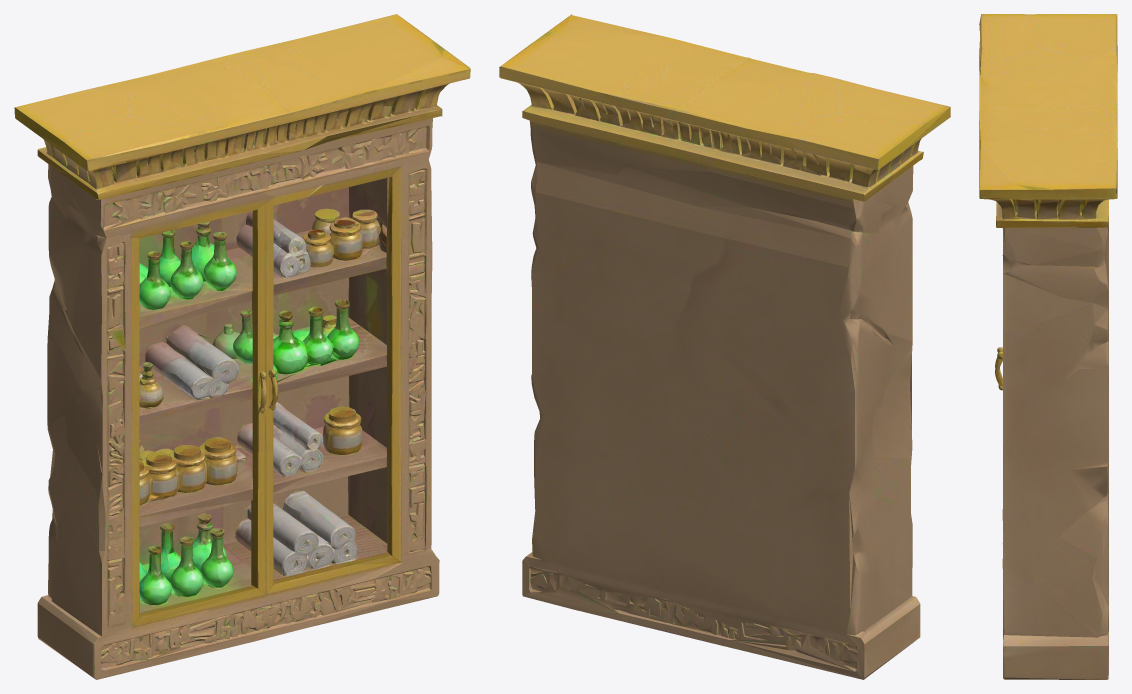
The model's file is et_medcab.glb.
3 views of the same model, side by side, from view 1: azimuth 30°, elevation 25°; view 2: azimuth 150°, elevation 25°; view 3: azimuth 270°, elevation 25° (orthographic). The views are drawn at different scales.
Bounding box in the file's own units: 1.43 × 1.9 × 0.476.
1 material, 1 textured.
